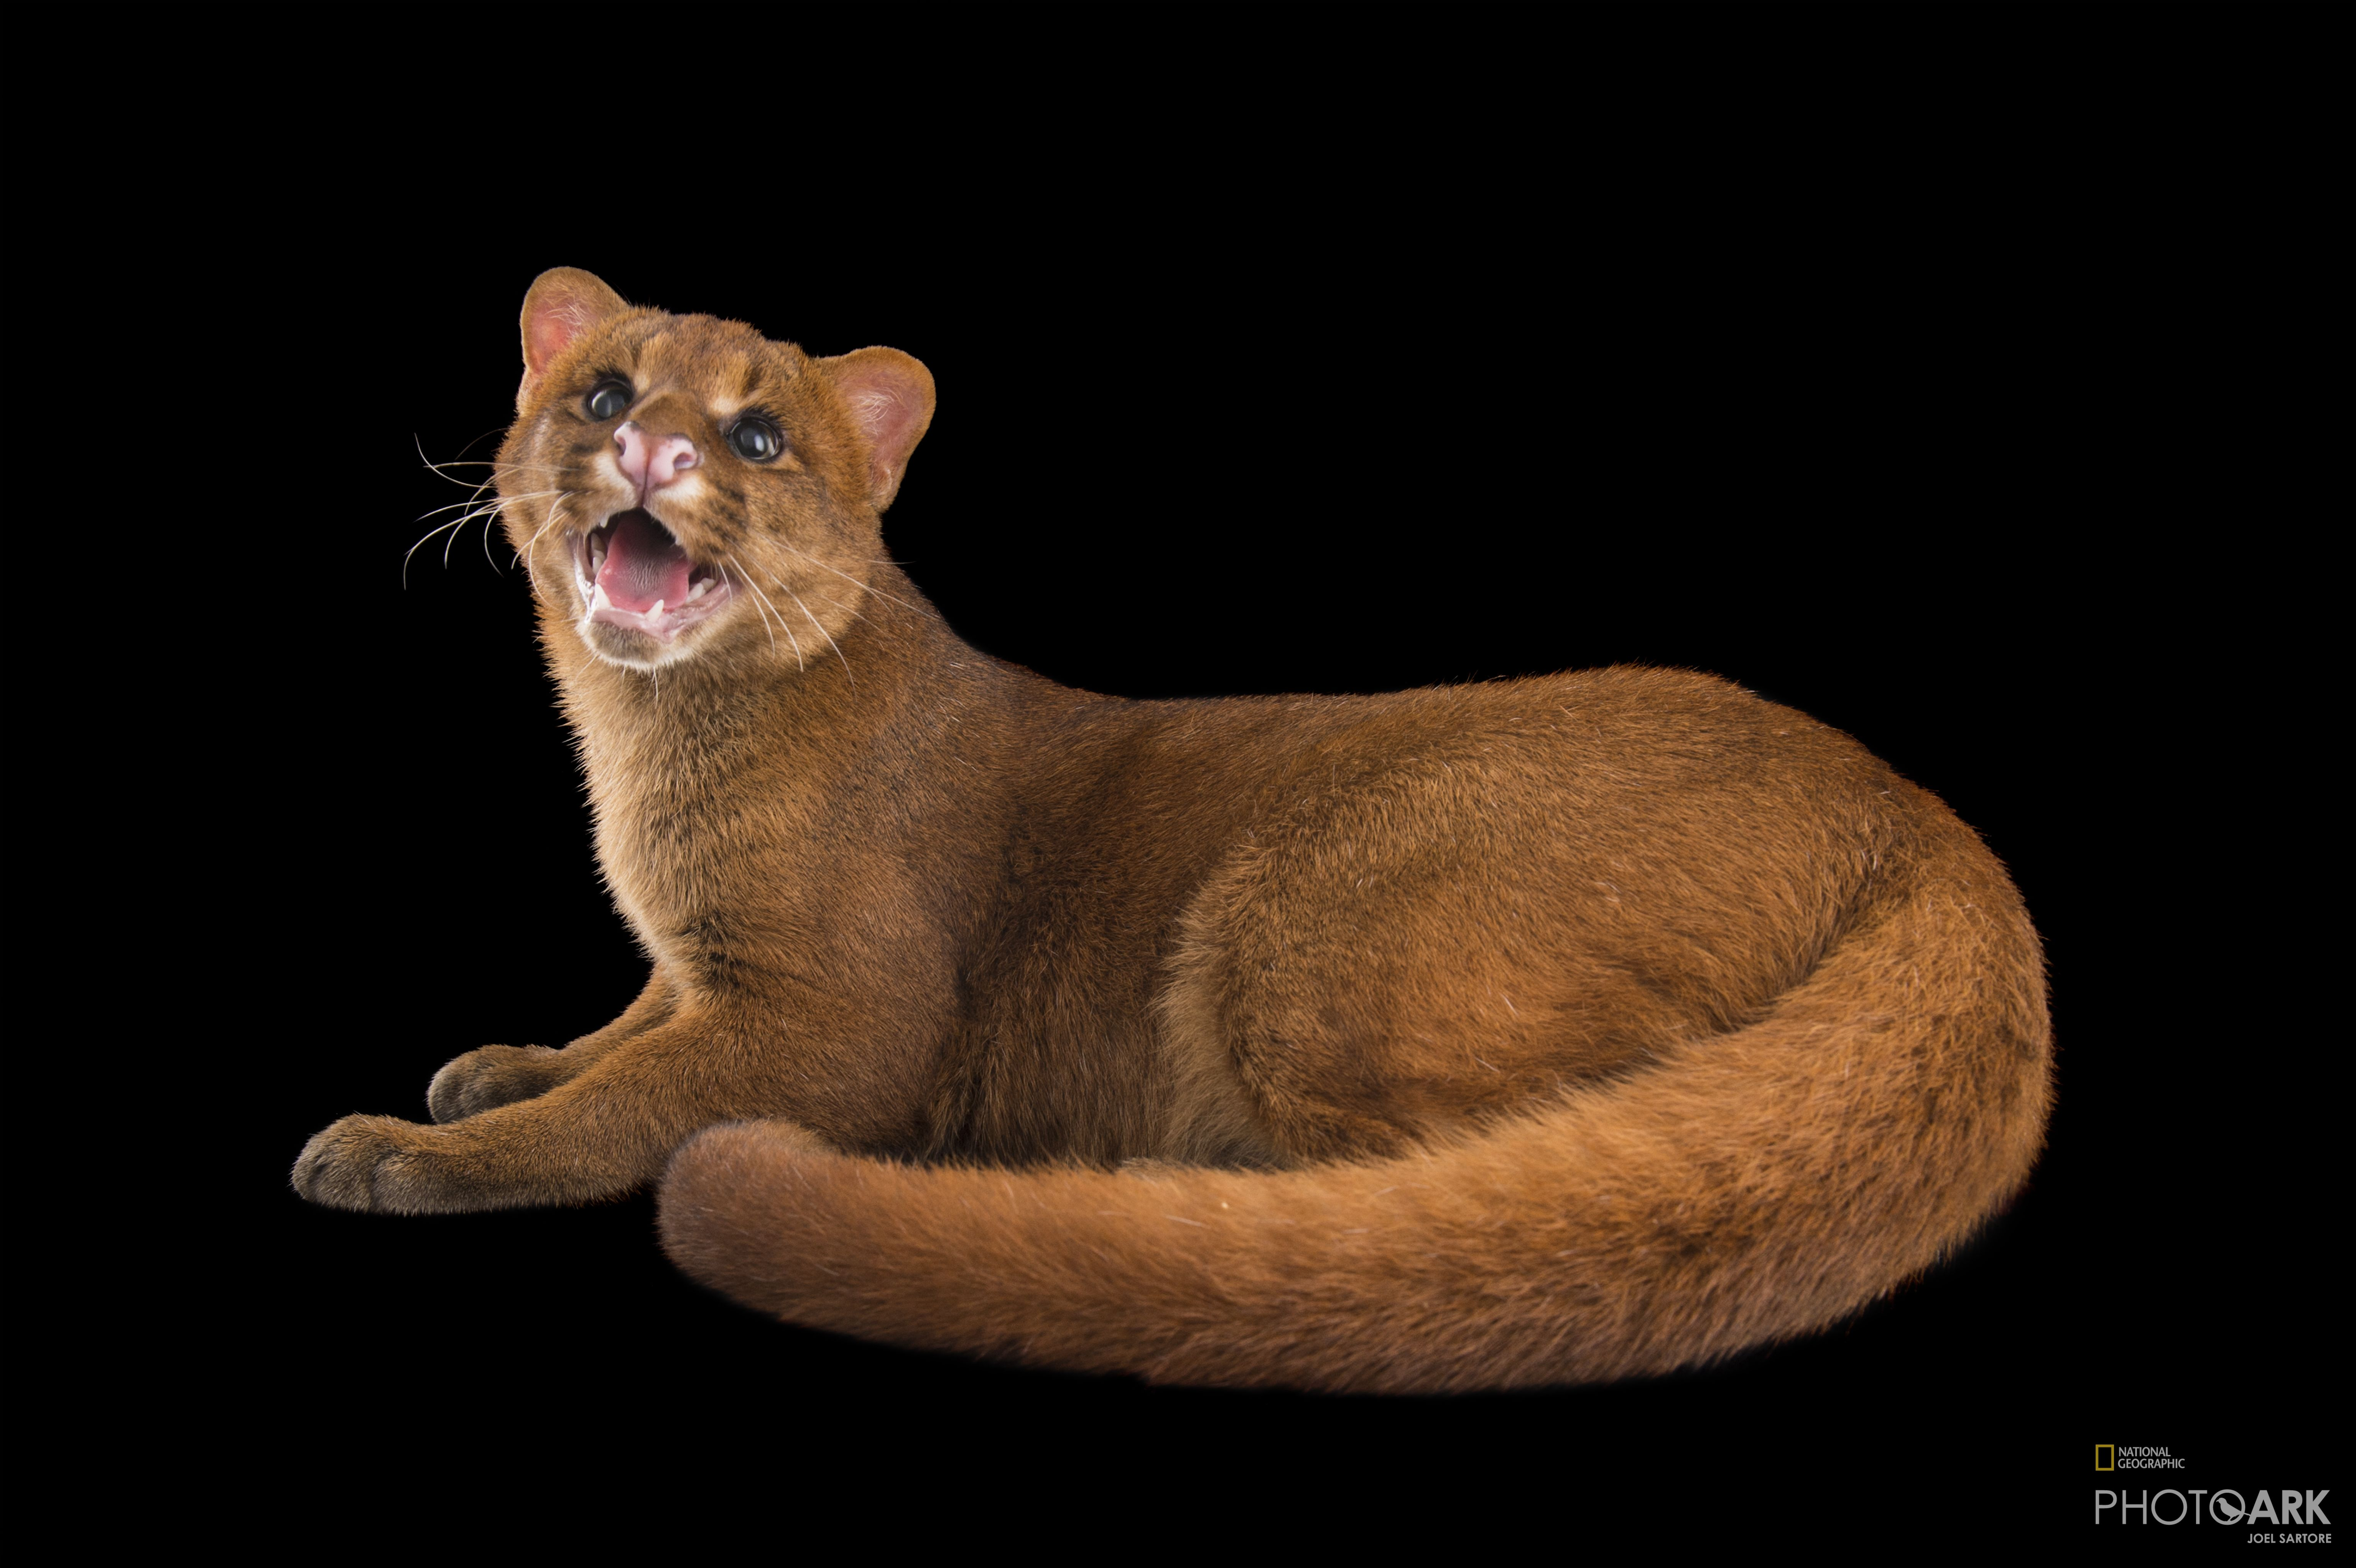Jaguarundi: (283, 238, 2087, 1417)
